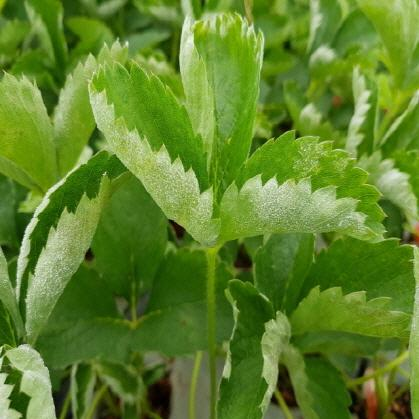Powdery Mildew Leaf: (86, 59, 222, 250), (13, 148, 135, 344), (213, 128, 389, 252), (177, 10, 266, 215), (52, 38, 130, 182), (214, 278, 293, 418), (0, 343, 57, 418)
